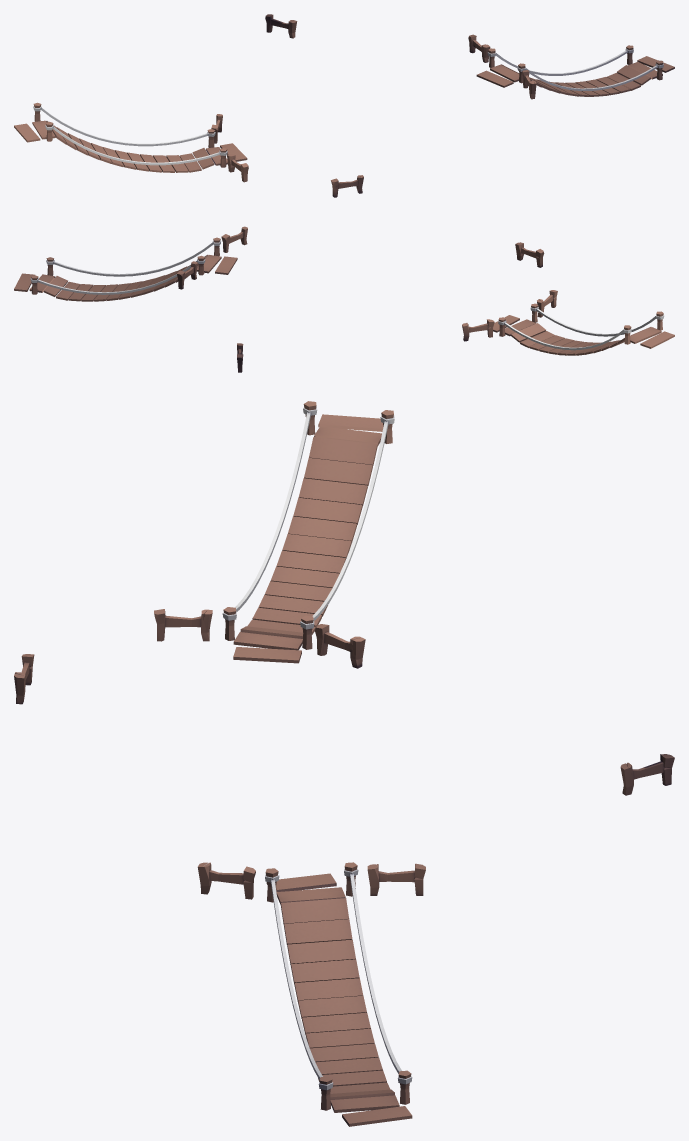
File: Wood_02.FBX
3 renders of one model, top to bottom at view 1: azimuth 30°, elevation 25°; view 2: azimuth 150°, elevation 25°; view 3: azimuth 270°, elevation 25°, orthographic. The views are drawn at different scales.
Visible parts, largest first — view 1: Wood_02; view 2: Wood_02; view 3: Wood_02.
Boxes of the visible parts, bbox=[...] form: Wood_02: bbox=[14, 14, 674, 197]; Wood_02: bbox=[14, 226, 674, 372]; Wood_02: bbox=[14, 401, 674, 1126].
Bounding box in the file's own units: 39.43 × 6.48 × 19.98.
